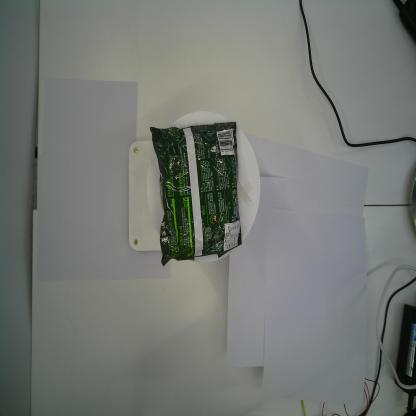Instant Noodles: (149, 119, 242, 269)
